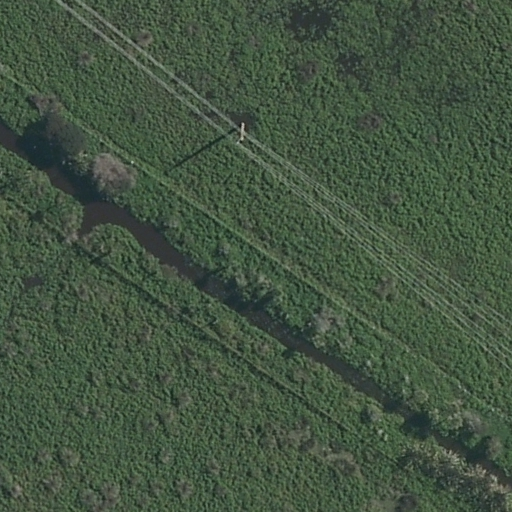DT: (239, 122, 247, 143)
